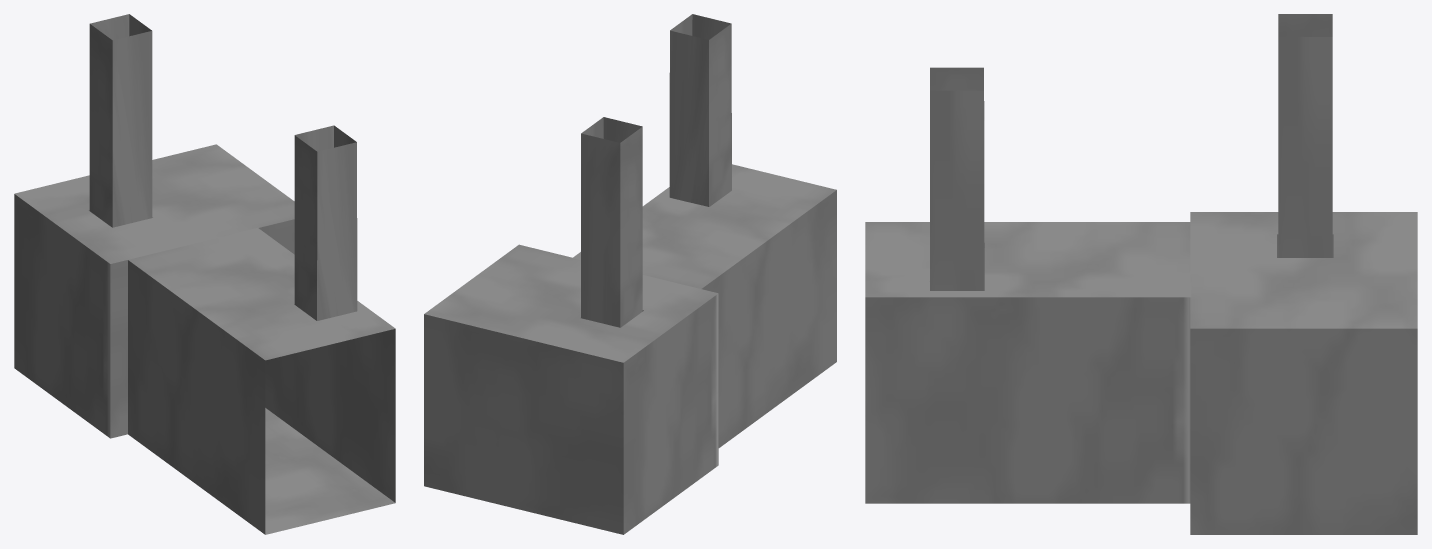
File: shared.glb
3 renders of one model, left to right at view 1: azimuth 30°, elevation 25°; view 2: azimuth 150°, elevation 25°; view 3: azimuth 270°, elevation 25°, orthographic. The views are drawn at different scales.
Parts seen in each view (by area): view 1: Passage; view 2: Passage; view 3: Passage.
Boxes of the visible parts, bbox=[...] form: Passage: bbox=[14, 14, 395, 534]; Passage: bbox=[424, 14, 836, 534]; Passage: bbox=[865, 14, 1417, 534].
Size of the model in its own units: 12.32 by 21.01 by 24.64.
1 material, 1 textured.
